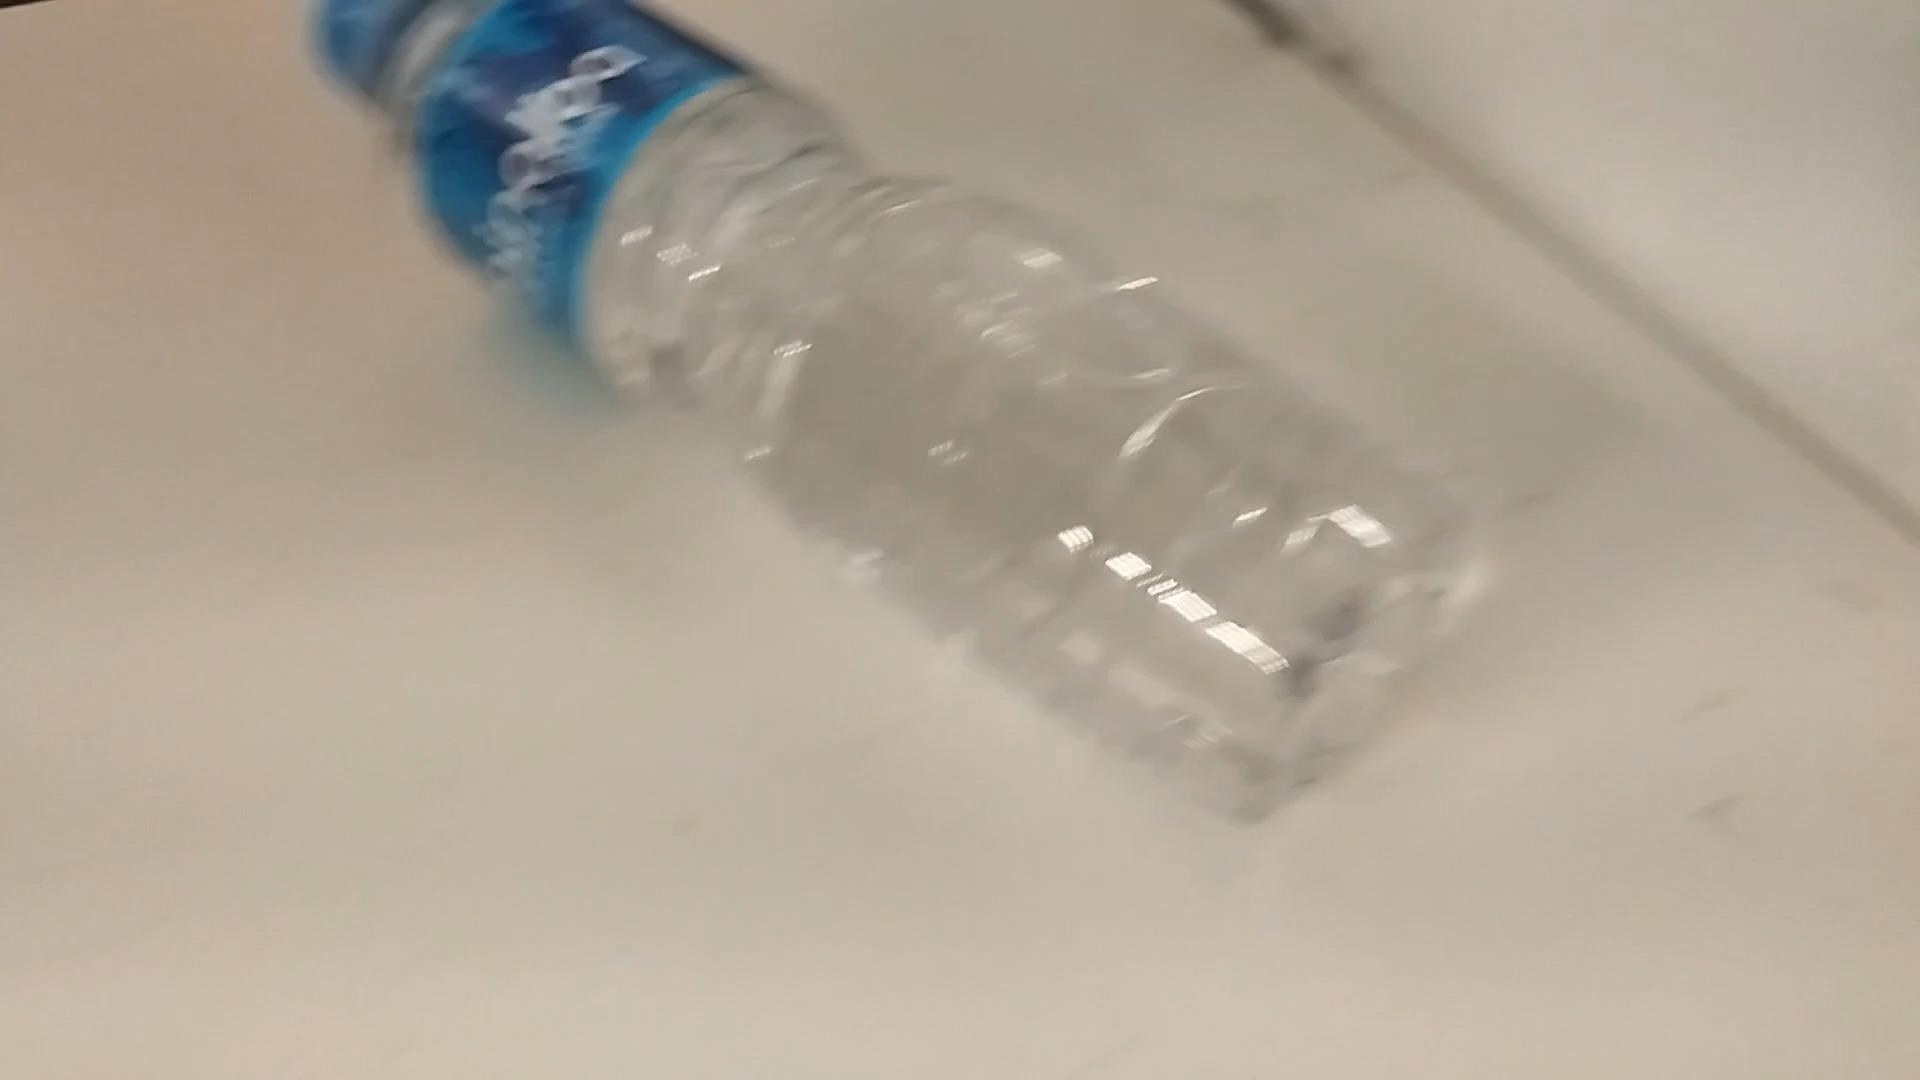agua: (320, 5, 1441, 823)
